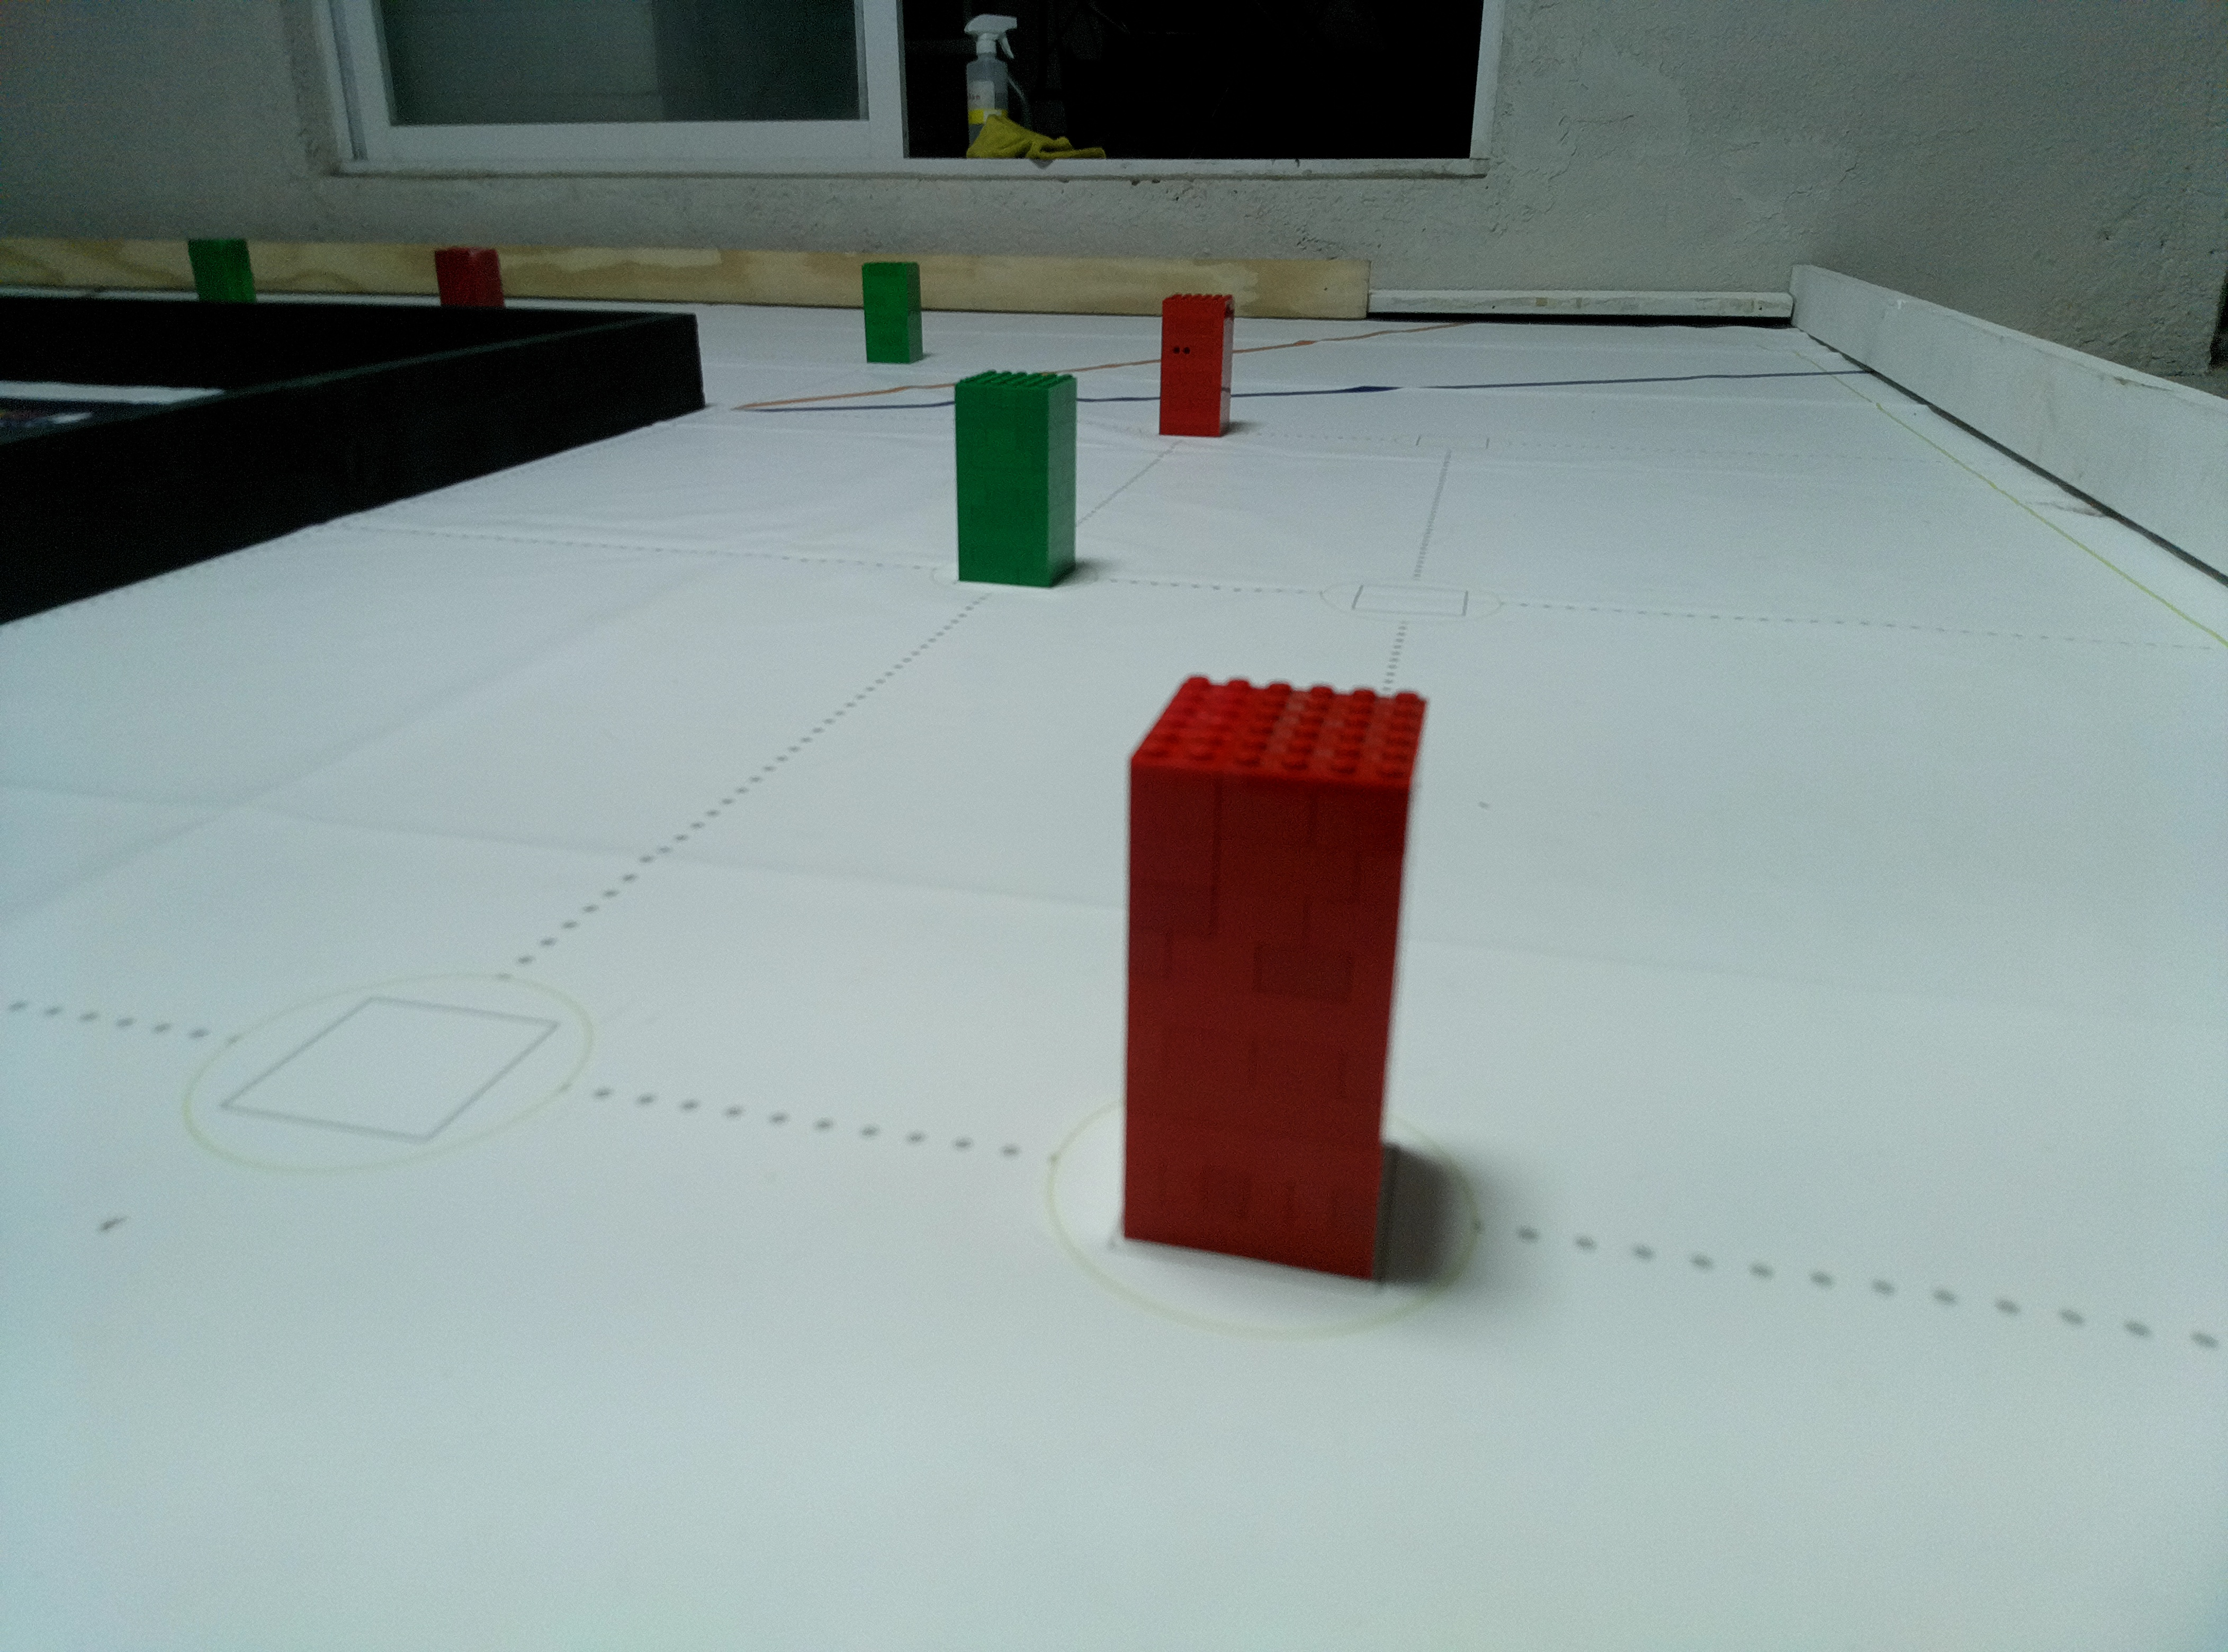greenbox: (951, 368, 1081, 590), (861, 259, 925, 368), (184, 236, 259, 302)
redbox: (1117, 672, 1432, 1284), (1157, 292, 1237, 439), (432, 245, 508, 305)
